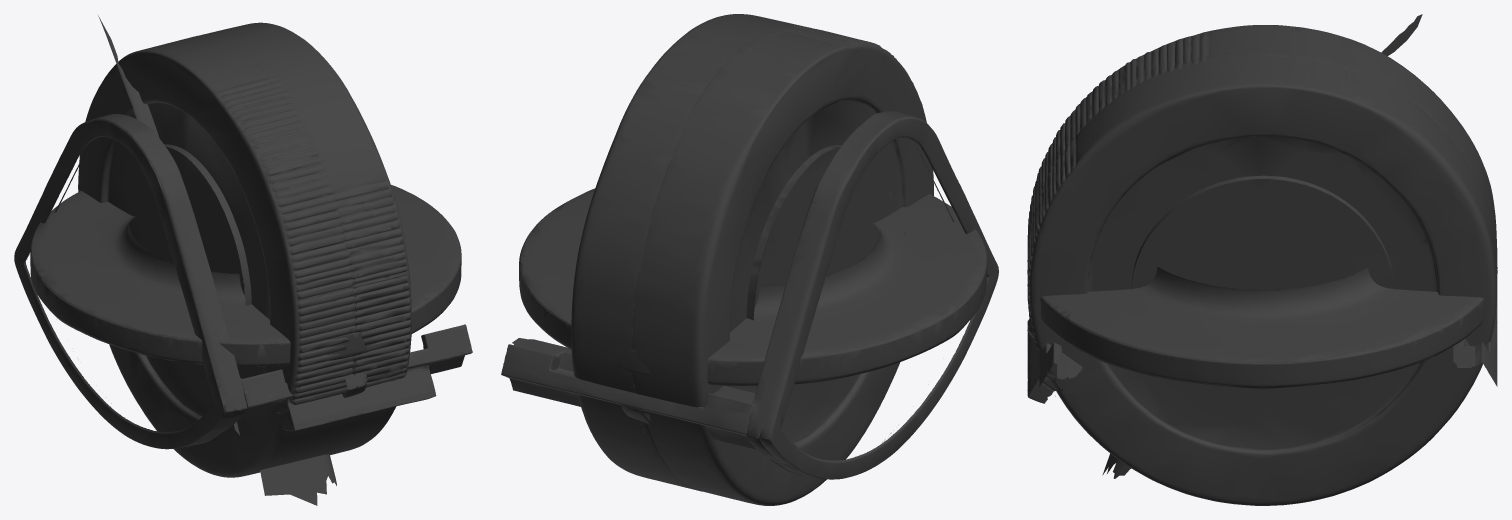
File: housing-baked.glb
3 renders of one model, left to right at view 1: azimuth 30°, elevation 25°; view 2: azimuth 150°, elevation 25°; view 3: azimuth 270°, elevation 25°, orthographic. The views are drawn at different scales.
Parts seen in each view (by area): view 1: knob_left, base, frame, knob_right, knob_left_cap; view 2: knob_left, base, knob_right, frame; view 3: knob_right, base, knob_left, frame, knob_left_cap.
Boxes of the visible parts, x1,y1,x2,y2 form: knob_left: (78,34,355,477); base: (30,185,461,366); frame: (14,114,472,449); knob_right: (164,22,411,458); knob_left_cap: (98,15,336,505); knob_left: (631,25,933,505); base: (519,188,987,385); knob_right: (571,14,841,491); frame: (501,111,998,479); knob_right: (1027,51,1497,505); base: (1027,266,1497,388); knob_left: (1027,25,1497,290); frame: (1027,292,1497,403); knob_left_cap: (1102,14,1422,478).
Bounding box in the file's own units: 1.96 × 2 × 2.
Materials: 1 (1 with a texture image).
